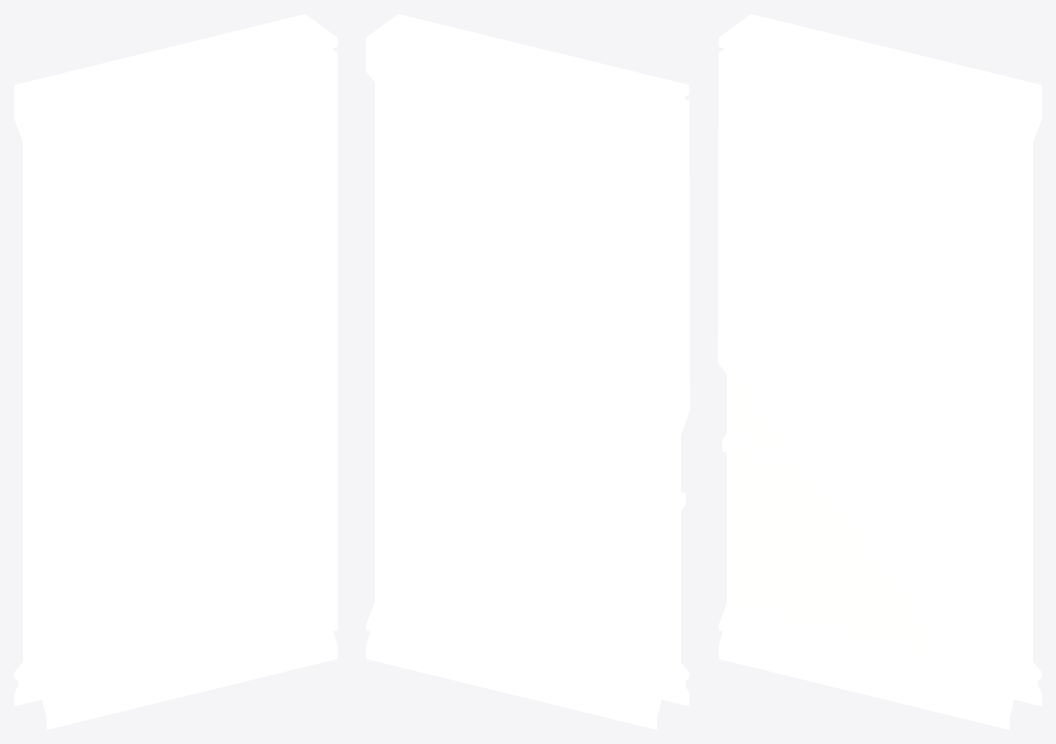
The model's file is IndustrialWall_Var_1_R.glb.
The picture shows the model from 3 angles, left to right: view 1: azimuth 30°, elevation 25°; view 2: azimuth 150°, elevation 25°; view 3: azimuth 330°, elevation 25°; orthographic projection.
Parts seen in each view (by area): view 1: IndustrialWall_var_1_R; view 2: IndustrialWall_var_1_R; view 3: IndustrialWall_var_1_R.
Part boxes in pixels (x1=…): IndustrialWall_var_1_R: x1=14, y1=14, x2=337, y2=729; IndustrialWall_var_1_R: x1=366, y1=14, x2=689, y2=729; IndustrialWall_var_1_R: x1=718, y1=14, x2=1041, y2=729.
Bounding box in the file's own units: 1.03 × 2.1 × 0.1979.
